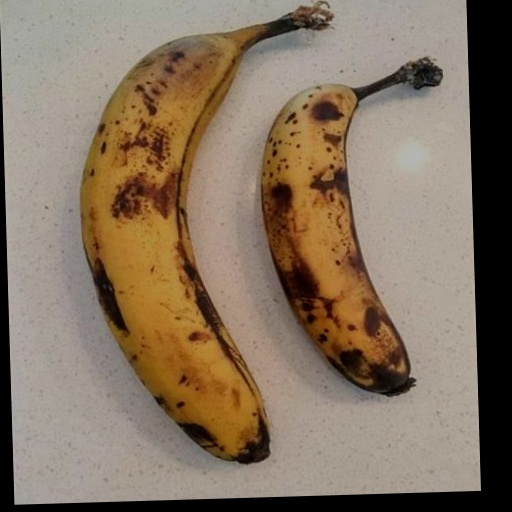fruit: (80, 3, 331, 462), (261, 58, 441, 394)
